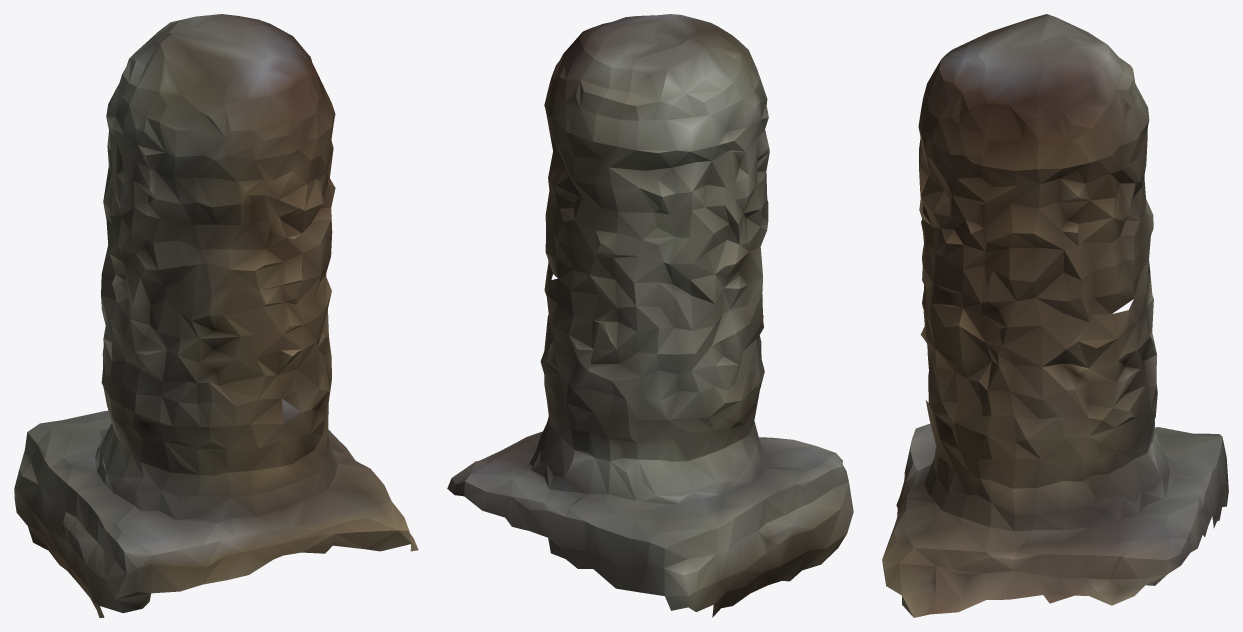
File: chinese-artifact.gltf
The picture shows the model from 3 angles, left to right: view 1: azimuth 30°, elevation 25°; view 2: azimuth 150°, elevation 25°; view 3: azimuth 270°, elevation 25°; orthographic projection. The views are drawn at different scales.
Parts seen in each view (by area): view 1: chinese-artifact; view 2: chinese-artifact; view 3: chinese-artifact.
Boxes of the visible parts, x1=… form: chinese-artifact: x1=14, y1=14, x2=418, y2=617; chinese-artifact: x1=447, y1=14, x2=853, y2=617; chinese-artifact: x1=882, y1=14, x2=1228, y2=617.
Size of the model in its own units: 0.0487 by 0.08 by 0.0459.
